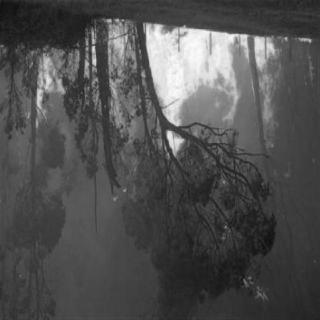Fire: (140, 23, 280, 157)
